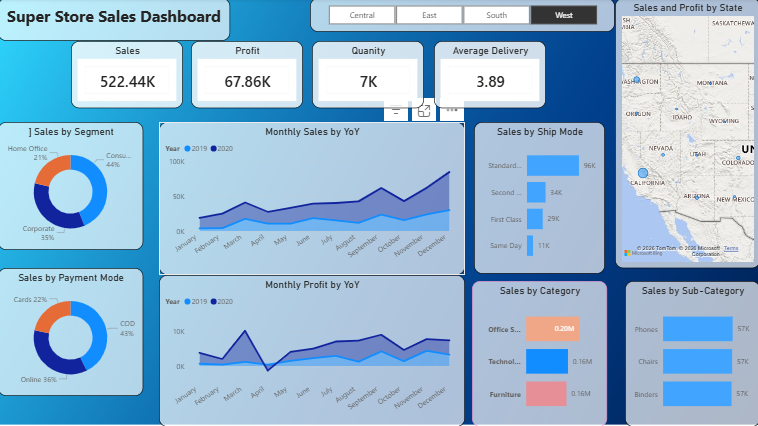

The page's visual inventory and layout, read from the dashboard file:
{"tool":"powerbi","page":{"name":"Page 1","canvas":[1280,720],"ordinal":0},"visuals":[{"type":"clusteredBarChart","title":"Sales by Category","fields":{"Y":["Sum(SuperStore Sales DataSet.Sales)"],"Category":["SuperStore Sales DataSet.Category"]},"box":[796.2,475.4,226.8,245.2],"z":0},{"type":"clusteredBarChart","title":" Sales by Sub-Category","fields":{"Category":["SuperStore Sales DataSet.Sub-Category"],"Y":["Sum(SuperStore Sales DataSet.Sales)"]},"box":[1053.2,475.4,226.8,245.2],"z":1000},{"type":"clusteredBarChart","title":"Sales by Ship Mode","fields":{"Category":["SuperStore Sales DataSet.Ship Mode"],"Y":["Sum(SuperStore Sales DataSet.Sales)"]},"box":[799.6,208.3,220.1,255.3],"z":2000},{"type":"stackedAreaChart","title":"Monthly Sales by YoY","fields":{"Y":["Sum(SuperStore Sales DataSet.Sales)"],"Category":["SuperStore Sales DataSet.Order Date.Variation.Date Hierarchy.Month"],"Series":["SuperStore Sales DataSet.Order Date.Variation.Date Hierarchy.Year"]},"box":[270.4,208.3,514,257],"z":3000},{"type":"stackedAreaChart","title":"Monthly Profit by YoY","fields":{"Category":["SuperStore Sales DataSet.Order Date.Variation.Date Hierarchy.Month"],"Series":["SuperStore Sales DataSet.Order Date.Variation.Date Hierarchy.Year"],"Y":["Sum(SuperStore Sales DataSet.Profit)"]},"box":[270.4,465.3,514,255.3],"z":4000},{"type":"map","title":"Sales and Profit by State","fields":{"Size":["Sum(SuperStore Sales DataSet.Sales)"],"Category":["SuperStore Sales DataSet.State"]},"box":[1036.4,0,243.6,453.5],"z":5000},{"type":"donutChart","title":"] Sales by Segment","fields":{"Y":["Sum(SuperStore Sales DataSet.Sales)"],"Category":["SuperStore Sales DataSet.Segment"]},"box":[0,208.3,243.6,215],"z":6000},{"type":"donutChart","title":" Sales by Payment Mode","fields":{"Y":["Sum(SuperStore Sales DataSet.Sales)"],"Category":["SuperStore Sales DataSet.Payment Mode"]},"box":[0,453.5,243.6,215],"z":7000},{"type":"slicer","fields":{"Values":["SuperStore Sales DataSet.Region"]},"box":[524.1,0,512.3,57.1],"z":8000},{"type":"textbox","box":[0,0,389.7,72.2],"z":9000},{"type":"cardVisual","title":"Sales","fields":{"Data":["Sum(SuperStore Sales DataSet.Sales)"]},"box":[122.6,72.2,188.1,112.5],"z":10000},{"type":"cardVisual","title":"Profit","fields":{"Data":["Sum(SuperStore Sales DataSet.Profit)"]},"box":[324.2,72.2,188.1,112.5],"z":11000},{"type":"cardVisual","title":"Quanity","fields":{"Data":["Sum(SuperStore Sales DataSet.Quantity)"]},"box":[527.5,72.2,188.1,112.5],"z":12000},{"type":"cardVisual","title":"Average Delivery ","fields":{"Data":["Avg(SuperStore Sales DataSet.Avg Delivery)"]},"box":[732.4,72.2,188.1,112.5],"z":13000}]}

Visuals, with their boxes in screenshot pixels (x1, y1, x2, y2), scaled from the page's 1280x720 canvas onto the 758x426 screenshot:
"Sales by Category" clusteredBarChart: {"x1": 471, "y1": 281, "x2": 606, "y2": 425}
" Sales by Sub-Category" clusteredBarChart: {"x1": 624, "y1": 281, "x2": 757, "y2": 425}
"Sales by Ship Mode" clusteredBarChart: {"x1": 474, "y1": 123, "x2": 604, "y2": 274}
"Monthly Sales by YoY" stackedAreaChart: {"x1": 160, "y1": 123, "x2": 465, "y2": 275}
"Monthly Profit by YoY" stackedAreaChart: {"x1": 160, "y1": 275, "x2": 465, "y2": 425}
"Sales and Profit by State" map: {"x1": 614, "y1": 0, "x2": 757, "y2": 268}
"] Sales by Segment" donutChart: {"x1": 0, "y1": 123, "x2": 144, "y2": 250}
" Sales by Payment Mode" donutChart: {"x1": 0, "y1": 268, "x2": 144, "y2": 396}
slicer - SuperStore Sales DataSet.Region: {"x1": 310, "y1": 0, "x2": 614, "y2": 34}
textbox: {"x1": 0, "y1": 0, "x2": 231, "y2": 43}
"Sales" cardVisual: {"x1": 73, "y1": 43, "x2": 184, "y2": 109}
"Profit" cardVisual: {"x1": 192, "y1": 43, "x2": 303, "y2": 109}
"Quanity" cardVisual: {"x1": 312, "y1": 43, "x2": 424, "y2": 109}
"Average Delivery " cardVisual: {"x1": 434, "y1": 43, "x2": 545, "y2": 109}
